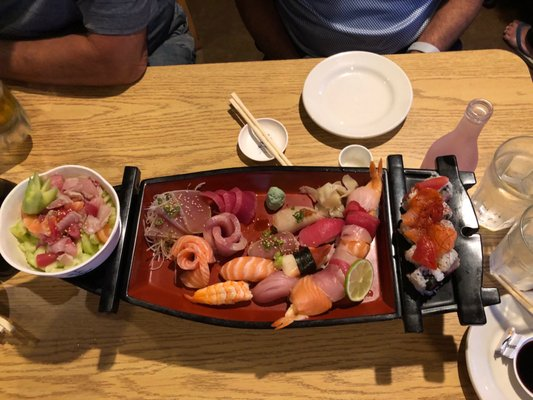pizza: (470, 135, 533, 233)
salad: (228, 92, 292, 166)
sushi: (123, 168, 387, 331), (0, 165, 123, 278)
